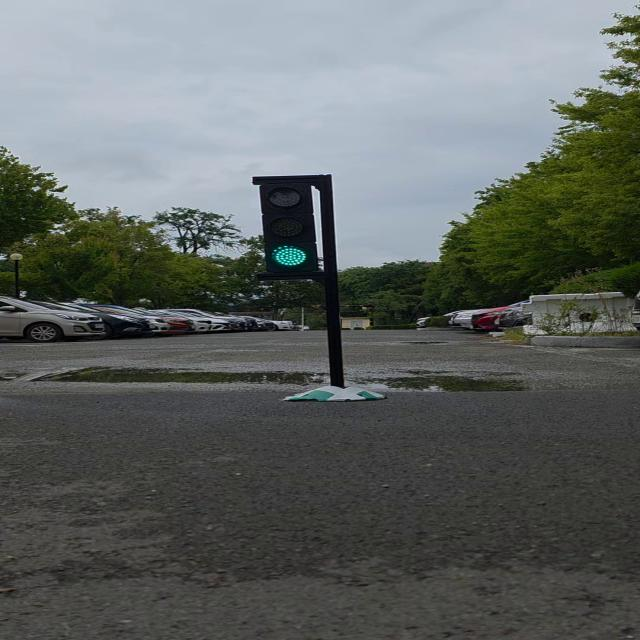green: (256, 178, 332, 277)
